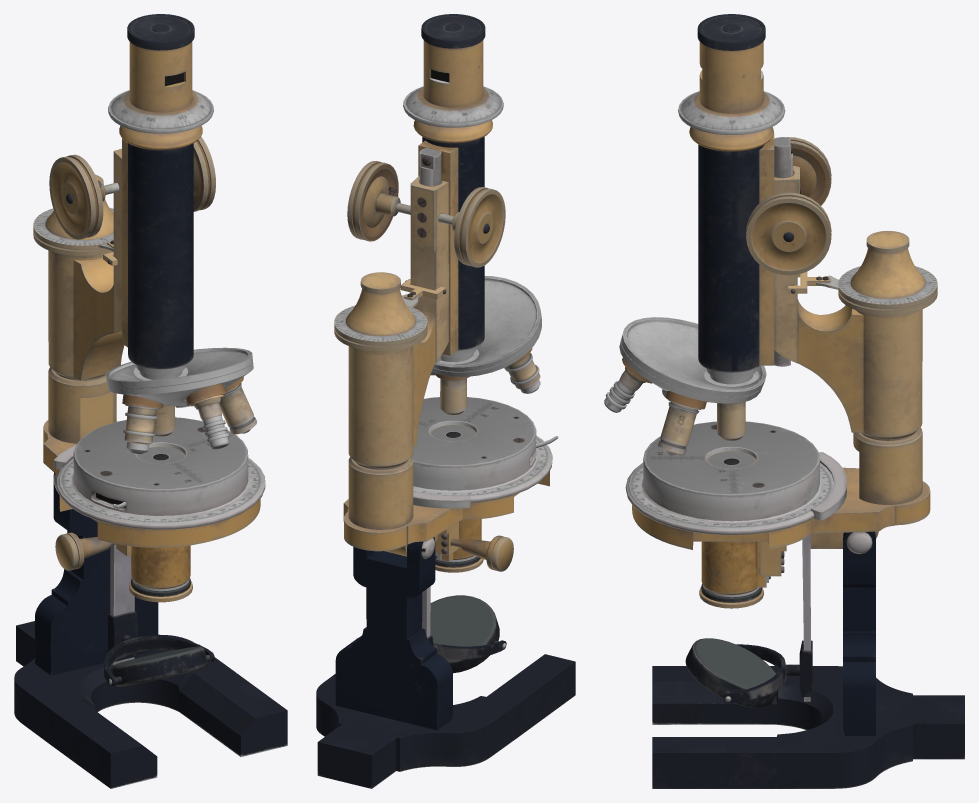
Rendered from microscope.glb.
3 views of the same model, side by side, from view 1: azimuth 30°, elevation 25°; view 2: azimuth 150°, elevation 25°; view 3: azimuth 270°, elevation 25° (orthographic). The views are drawn at different scales.
Visible parts, largest first — view 1: vintage_microscope_rack_mount_support, vintage_microscope_eye_piece, vintage_microscope_base, vintage_microscope_revolver, vintage_microscope_adjustment, vintage_microscope_mirror_arm, vintage_microscope_condenser, vintage_microscope_mirror_base; view 2: vintage_microscope_rack_mount_support, vintage_microscope_base, vintage_microscope_eye_piece, vintage_microscope_adjustment, vintage_microscope_mirror_base, vintage_microscope_revolver, vintage_microscope_condenser, vintage_microscope_mirror_arm; view 3: vintage_microscope_rack_mount_support, vintage_microscope_base, vintage_microscope_eye_piece, vintage_microscope_adjustment, vintage_microscope_revolver, vintage_microscope_condenser, vintage_microscope_mirror_base, vintage_microscope_mirror_arm.
Boxes of the visible parts, box(x1,y1,x2,y2) form: vintage_microscope_rack_mount_support: box(33, 149, 265, 570); vintage_microscope_eye_piece: box(105, 14, 252, 388); vintage_microscope_base: box(14, 472, 287, 788); vintage_microscope_revolver: box(107, 362, 256, 453); vintage_microscope_adjustment: box(49, 136, 215, 239); vintage_microscope_mirror_arm: box(104, 544, 214, 685); vintage_microscope_condenser: box(129, 446, 192, 602); vintage_microscope_mirror_base: box(111, 646, 207, 686); vintage_microscope_rack_mount_support: box(334, 176, 558, 571); vintage_microscope_base: box(316, 537, 575, 788); vintage_microscope_eye_piece: box(403, 14, 541, 371); vintage_microscope_adjustment: box(347, 161, 505, 267); vintage_microscope_mirror_base: box(430, 595, 499, 673); vintage_microscope_revolver: box(430, 316, 541, 414); vintage_microscope_condenser: box(430, 425, 483, 572); vintage_microscope_mirror_arm: box(422, 586, 506, 659); vintage_microscope_rack_mount_support: box(625, 166, 937, 576); vintage_microscope_base: box(652, 531, 964, 788); vintage_microscope_eye_piece: box(621, 14, 793, 397); vintage_microscope_adjustment: box(746, 137, 831, 275); vintage_microscope_revolver: box(604, 337, 762, 455); vintage_microscope_condenser: box(699, 451, 770, 608); vintage_microscope_mirror_base: box(685, 638, 778, 707); vintage_microscope_mirror_arm: box(723, 534, 812, 702).
Size of the model in its own units: 0.1068 by 0.3996 by 0.1819.
Materials: 2 (2 with a texture image).
